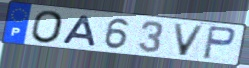3: (137, 20, 166, 55)
6: (104, 17, 132, 51)
A: (61, 14, 98, 48)
O: (30, 9, 65, 45)
P: (201, 24, 238, 61)
V: (171, 22, 207, 58)
